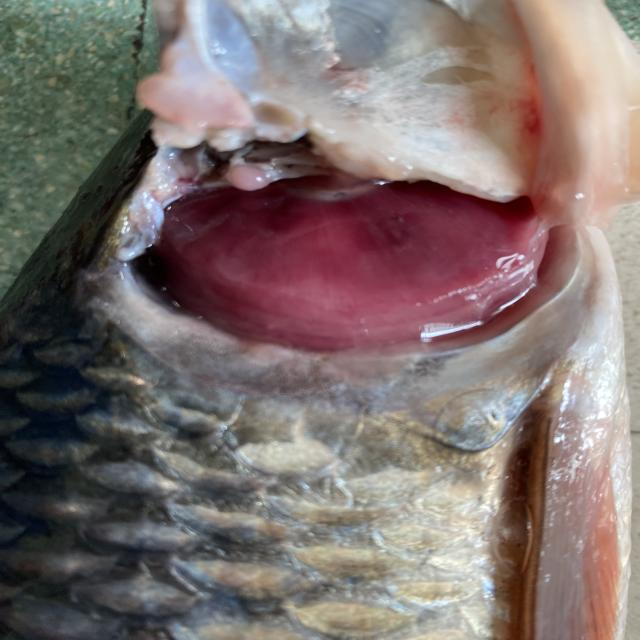Fresh: (92, 144, 561, 353)
